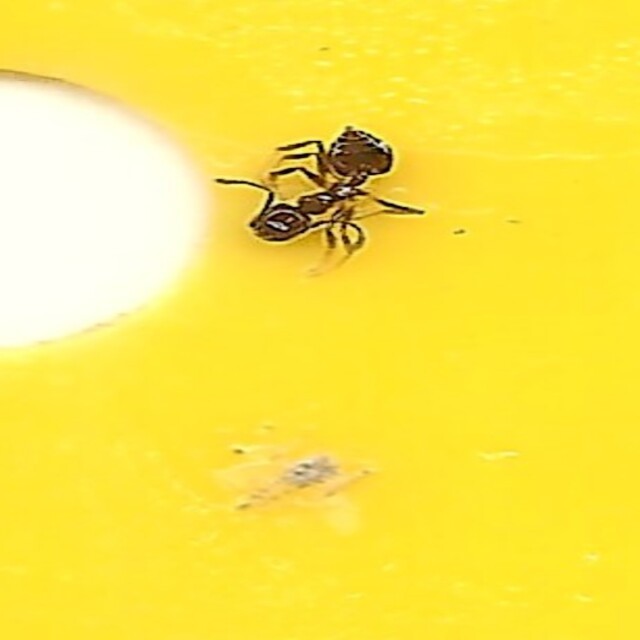Hymenoptera: (208, 123, 432, 277)
Nematocera: (227, 450, 363, 517)
